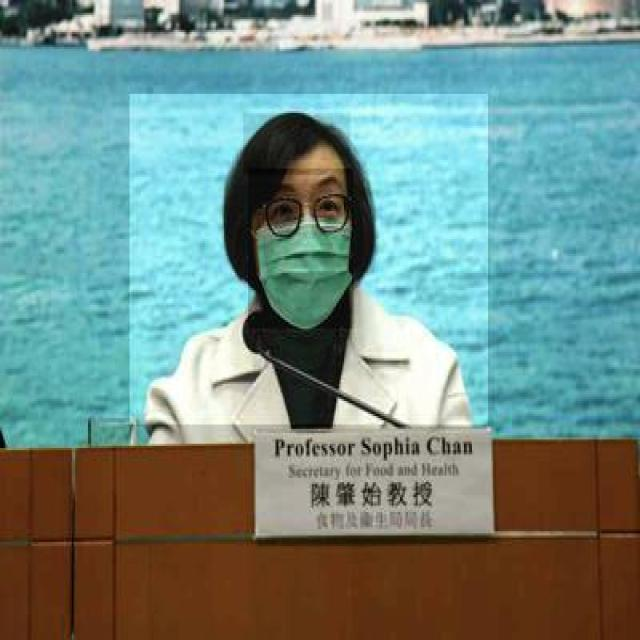face_mask: (248, 168, 354, 328)
glasses: (260, 188, 354, 241)
head_nohelmet: (243, 113, 352, 177)
person: (130, 94, 490, 427)
